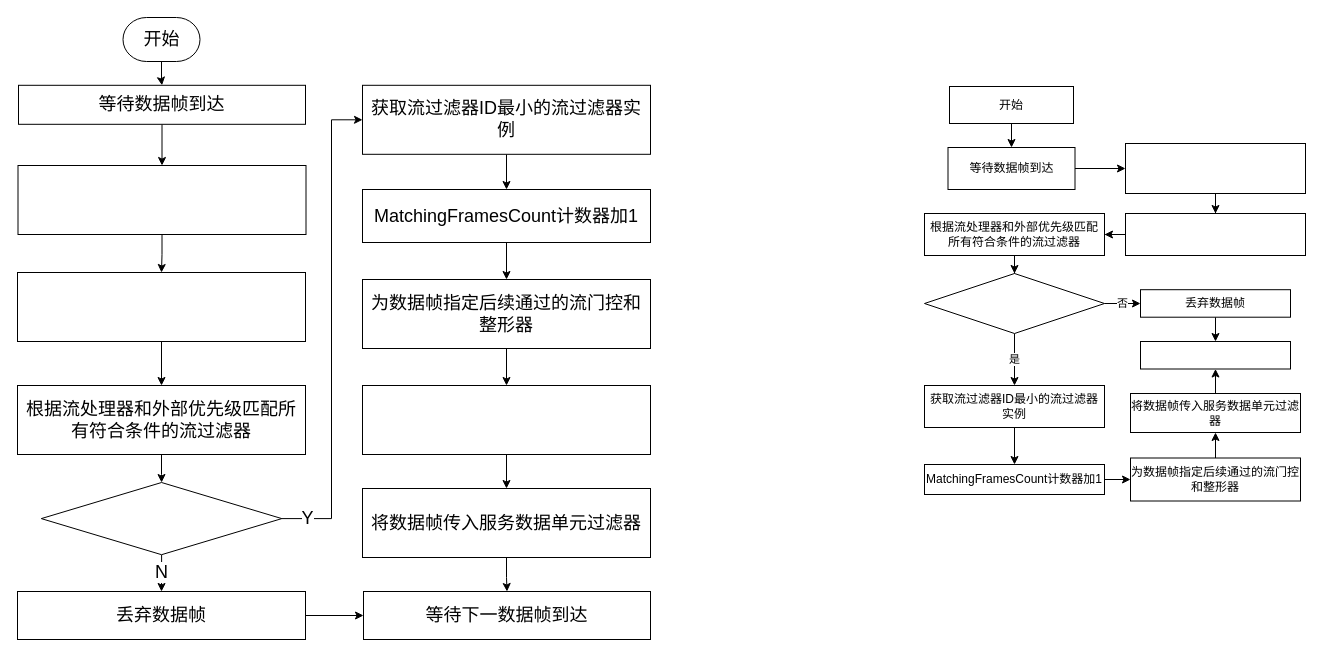
This 1323x657 diagram has some shape labels left out. Here are the shapes that lost their labels. From the top down, the centre of each, then its label:
point (1215, 168): 获取数据帧的 输入端口、源 MAC 地址、目的 MAC 地址、 VLAN ID 、外部优先级字段
point (161, 199): 获取数据帧的输入端口、源 MAC 地址、目的 MAC 地址、 VLAN ID 、外部优先级字段
point (1215, 234): 确定 流识别功能子参数 流处理器字段的值
point (161, 307): 确定流识别功能子参数流处理器字段的值
point (1014, 303): 是否有符合条件的 流过滤器
point (1215, 354): 结束
point (506, 419): 将 流门控和整形器ID写入流状态信息表
point (161, 518): 有符合条件的 流过滤器
